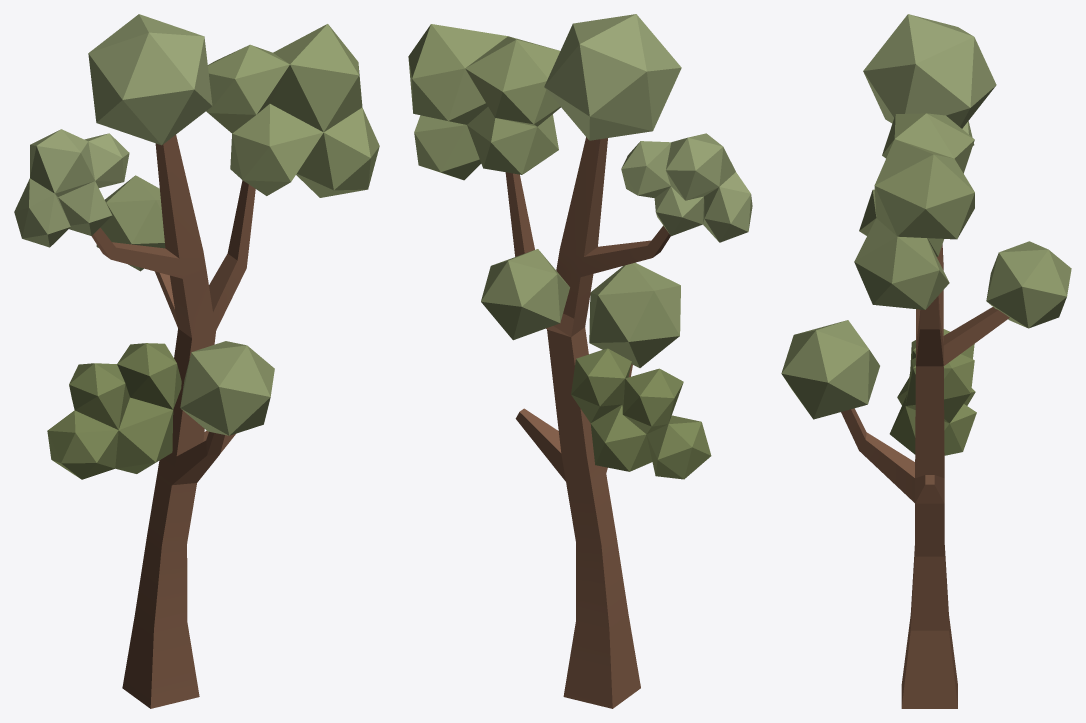
The model's file is deciduous_tree_11.fbx.
3 views of the same model, side by side, from view 1: azimuth 30°, elevation 25°; view 2: azimuth 150°, elevation 25°; view 3: azimuth 270°, elevation 25° (orthographic).
Parts seen in each view (by area): view 1: deciduous_tree_11; view 2: deciduous_tree_11; view 3: deciduous_tree_11.
Boxes of the visible parts, x1,y1,x2,y2 form: deciduous_tree_11: (14,14,379,708); deciduous_tree_11: (408,14,752,708); deciduous_tree_11: (781,14,1071,708).
Bounding box in the file's own units: 366 × 688 × 269.
